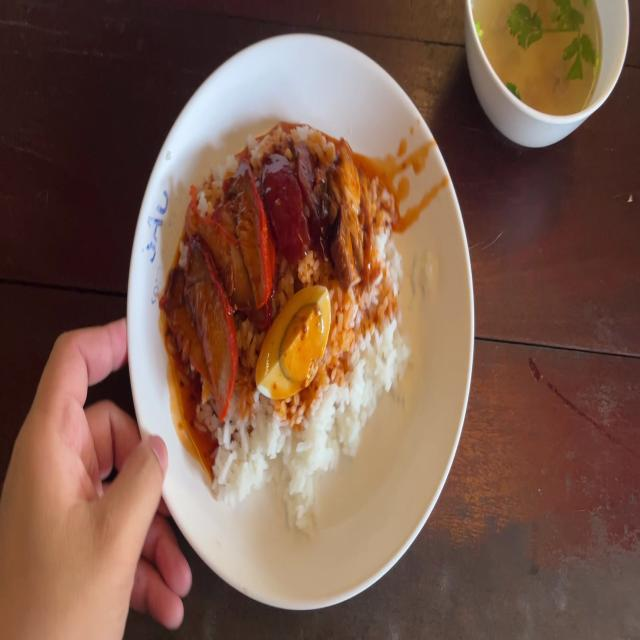01boiled_egg: (266, 276, 330, 408)
01chainese_sausage: (262, 134, 332, 264)
01crispy_pork: (324, 140, 364, 288)
01red_pork: (173, 162, 265, 426)
01red_pork_and_crispy_pork: (164, 115, 408, 533)
01rice: (342, 206, 412, 432), (230, 407, 350, 527)
